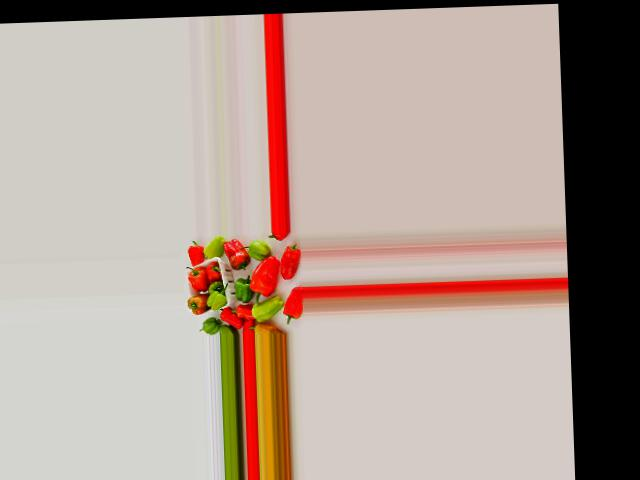bell_pepper: (279, 291, 304, 325)
